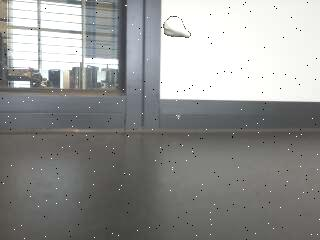Garlic: (164, 16, 192, 41)
